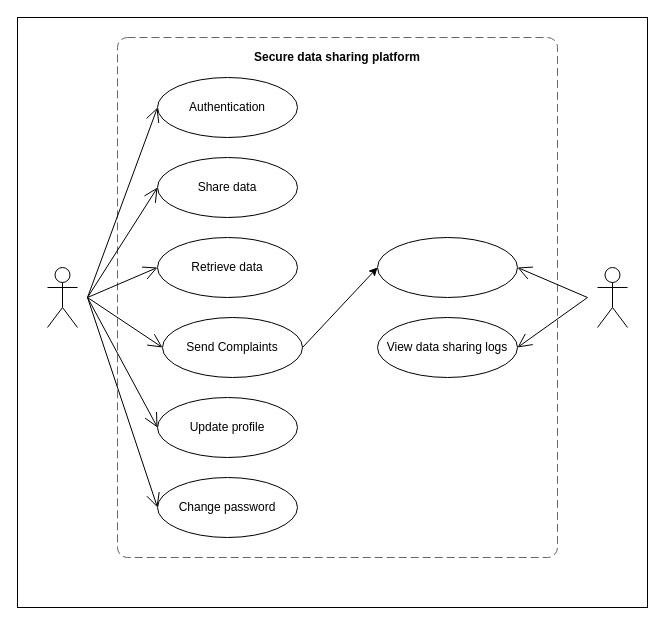
The diagram is 665 pixels wide and 625 high, and some of its shapes have lost their labels. Each missing label, with the centre of its shape:
"Admin" goes at point 612,297.
"Handle user complaint" goes at point 447,267.
"User" goes at point 62,297.
